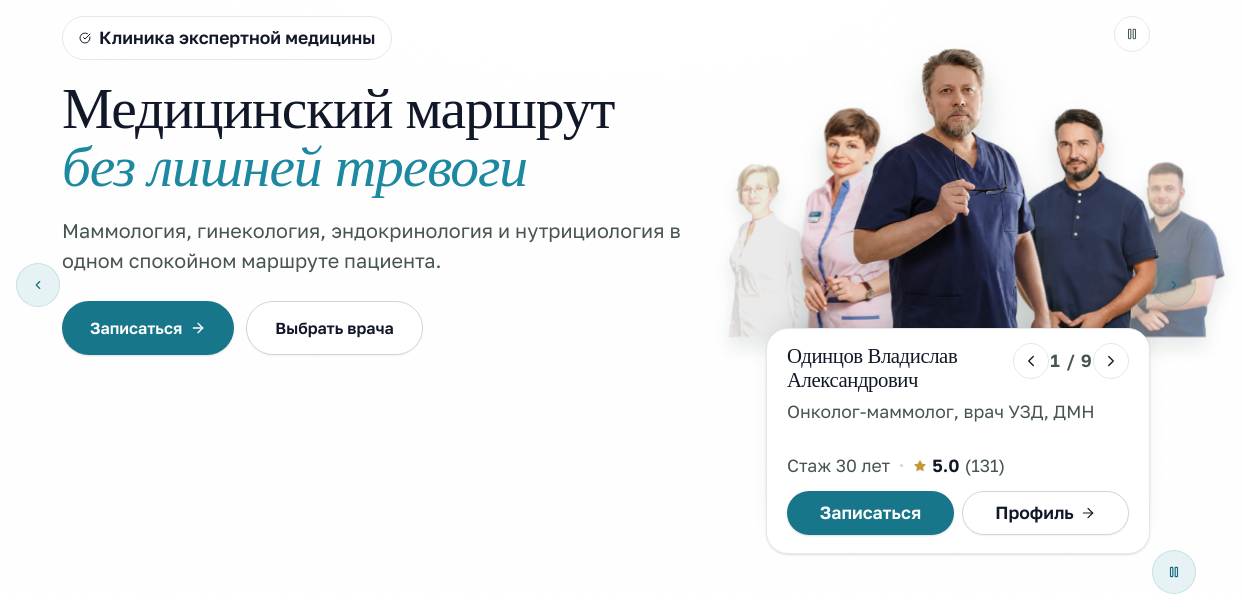
it: HeroSlider doctor autoplay › keeps rotating doctors after the visitor switches a slide by hand
Step 1. Click the button named "Следующий слайд" → (1174, 285), box [1152,263,1196,307]
Wait 4000 ms
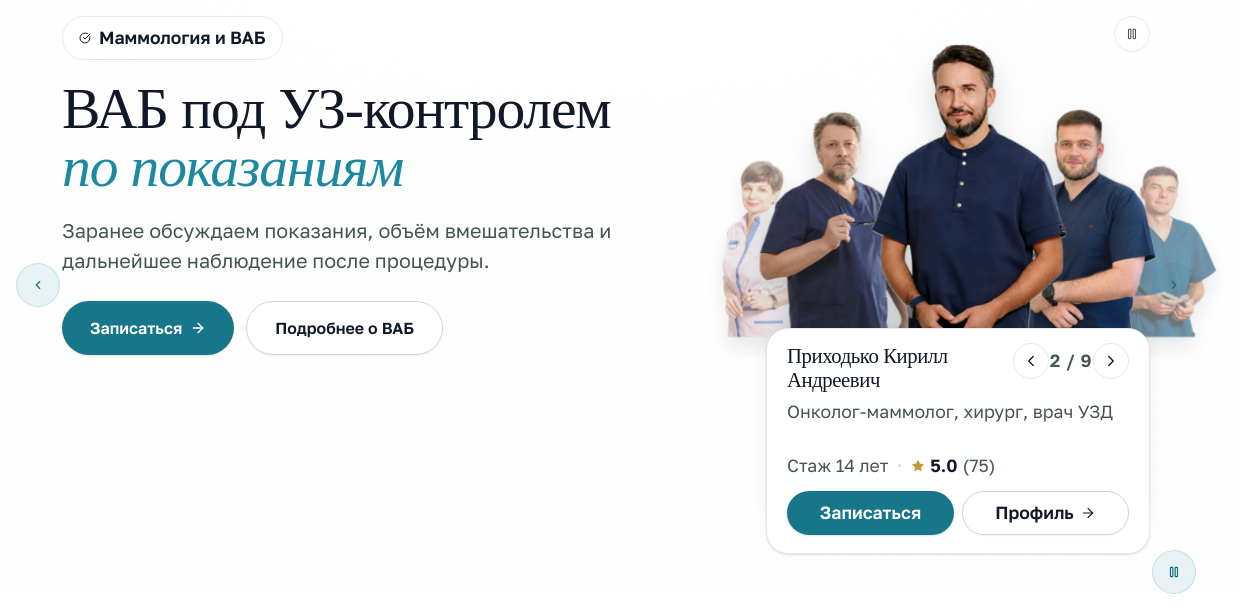
Expected: the text with class "mobile-doctor-carousel-count" reads "2 / 9", [1049,348,1093,374]
